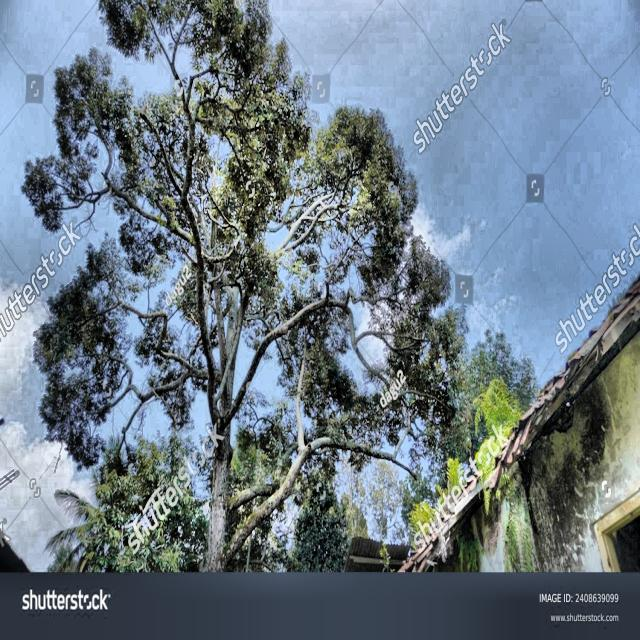arvore: (199, 246, 258, 569)
